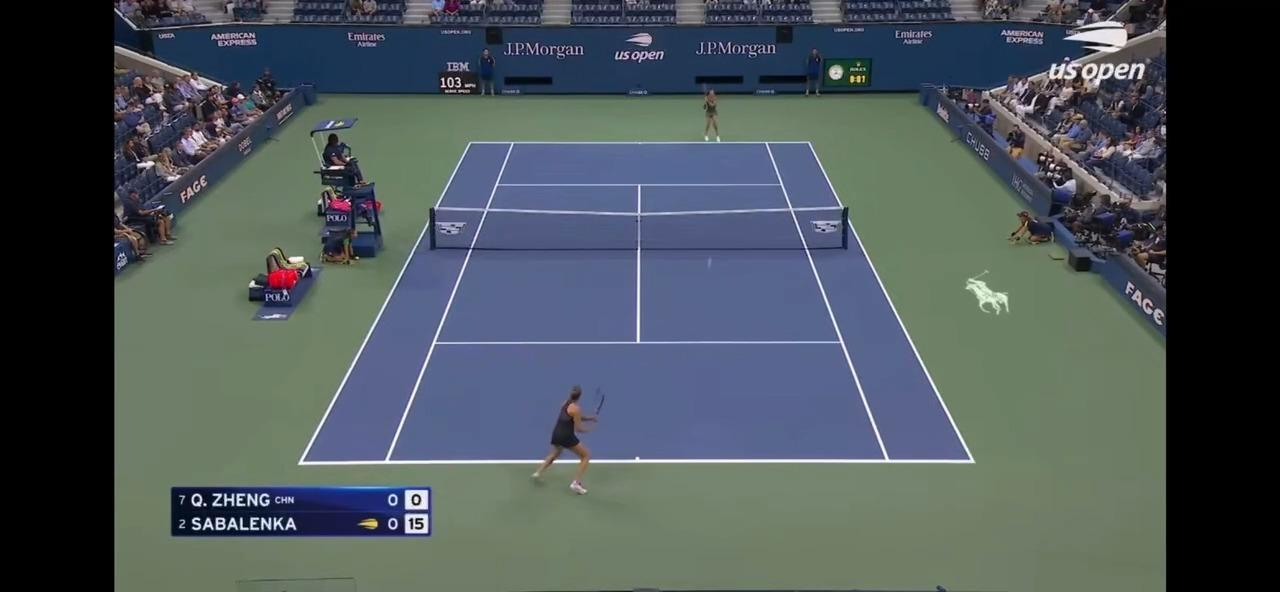ball: (698, 256, 723, 273)
person: (526, 368, 624, 530), (698, 73, 731, 165)
